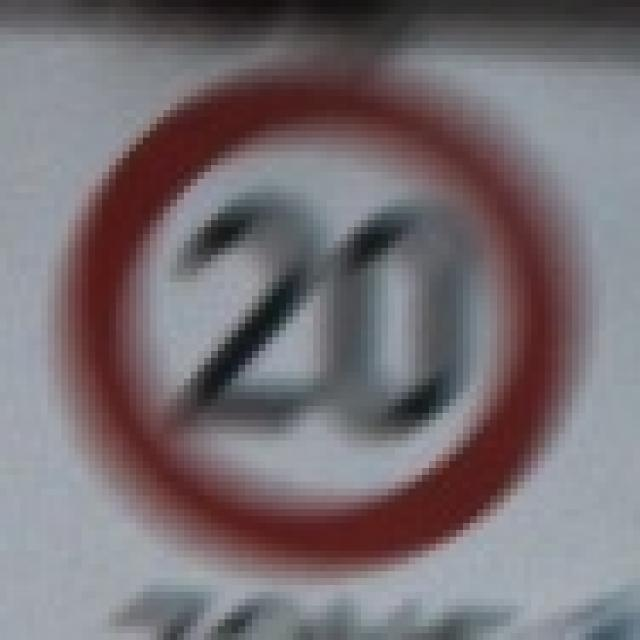Speed Limit -20-: (54, 62, 586, 585)
